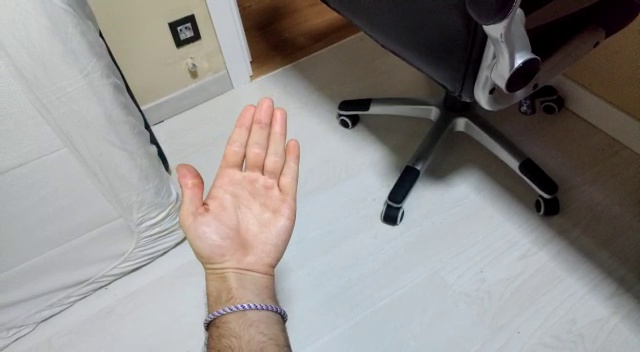Palm: (175, 94, 307, 275)
